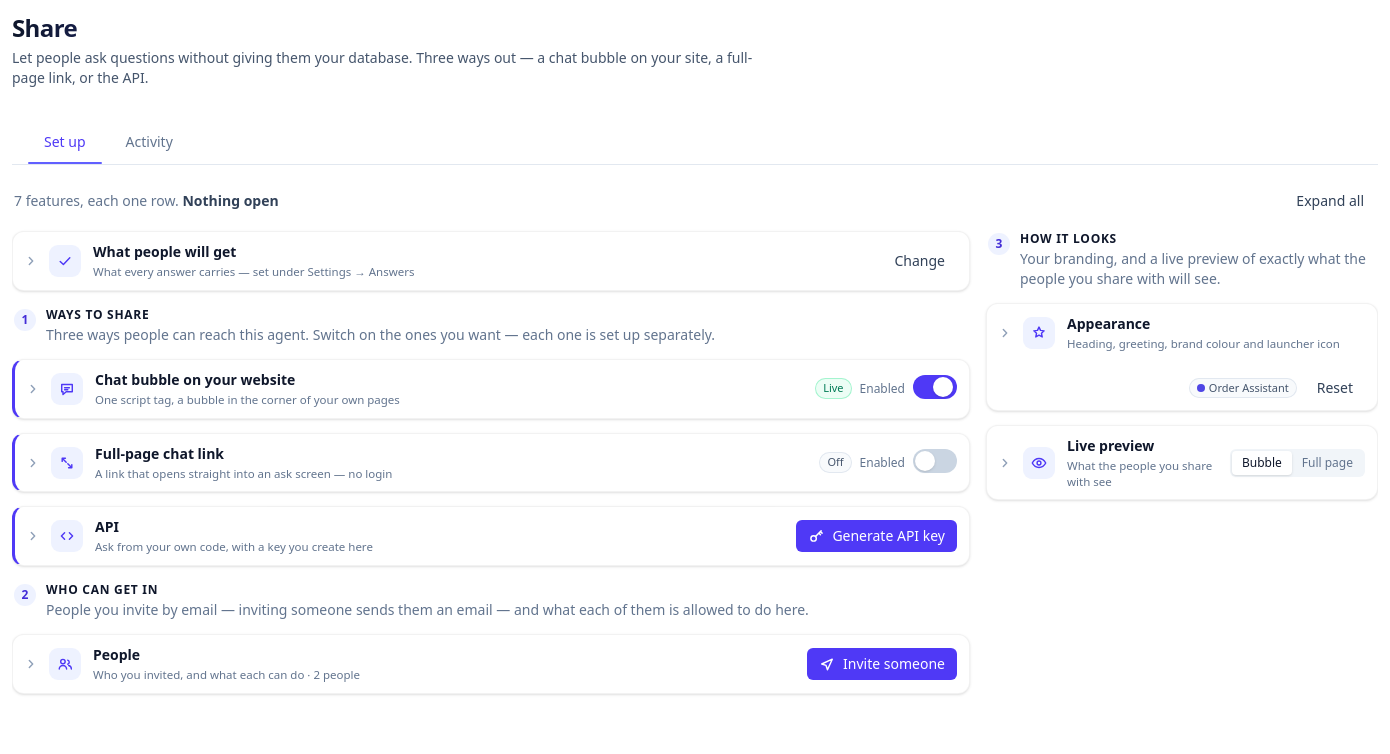
Scenario: Share sections › keeps which rows were open across a trip to Activity
The width and height of the screenshot is (1390, 754).
What coordinates should you click on to do the following:
click the button that starts with "Chat bubble on your website"
I would click on:
 (67, 389)
Its box is [15,360,803,418].
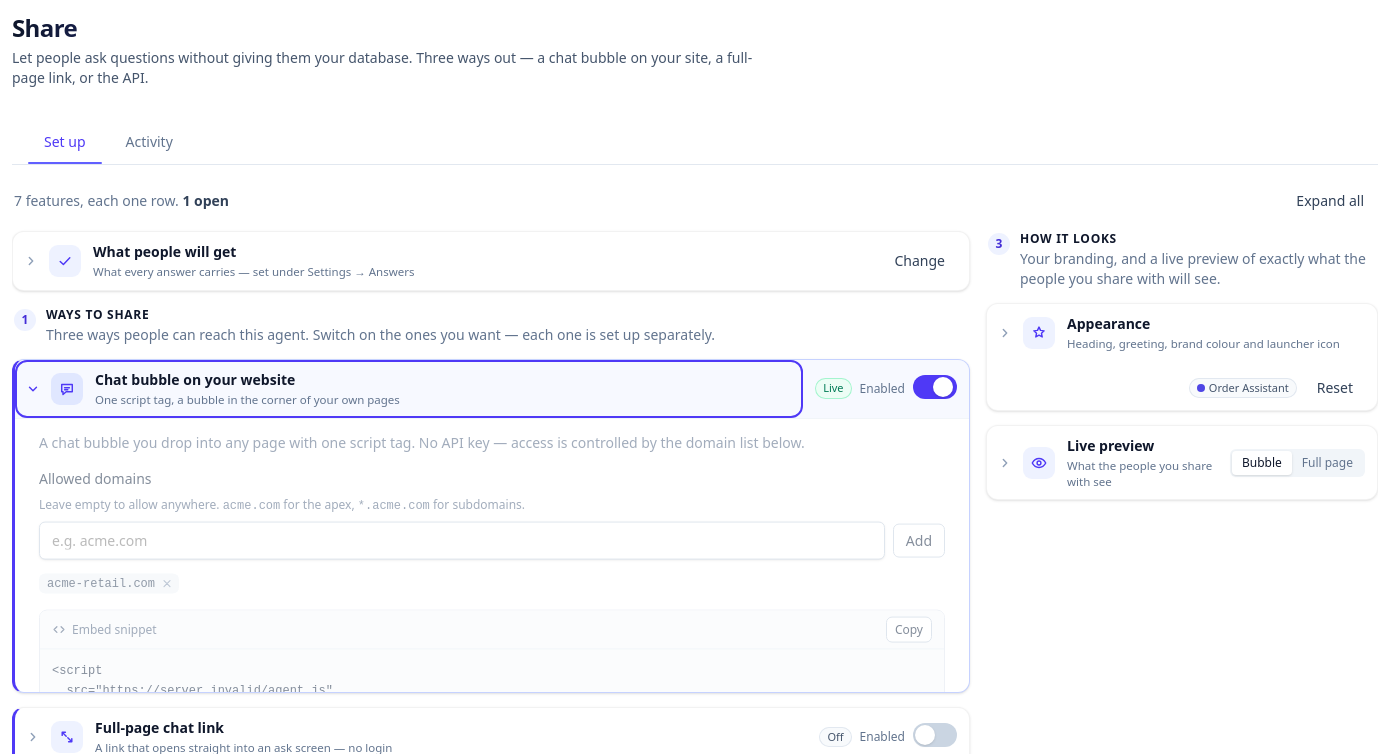
What coordinates should you click on to do the following:
click the tab "Activity"
I would click on:
 (149, 142)
Its box is [110,124,189,160].
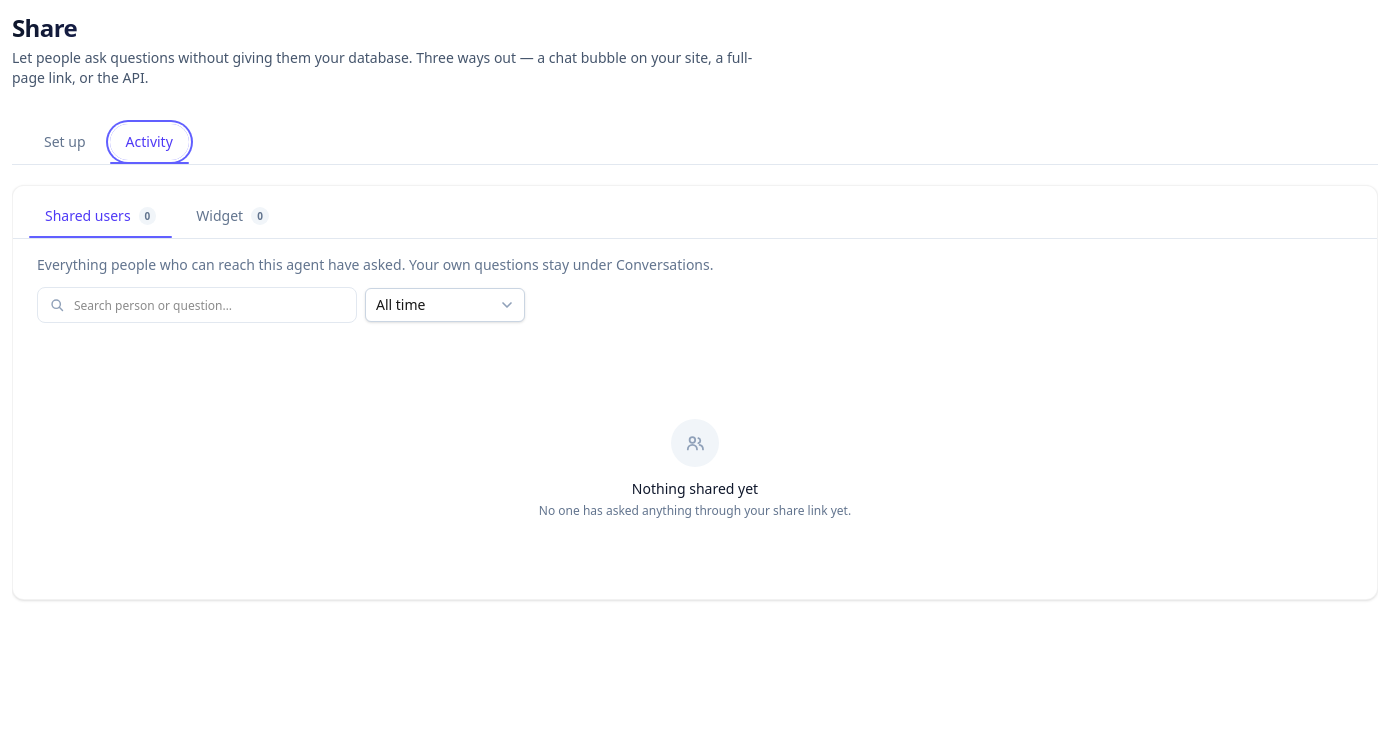
What coordinates should you click on to do the following:
click the tab "Set up"
I would click on:
 (65, 142)
Its box is [28,124,102,160].
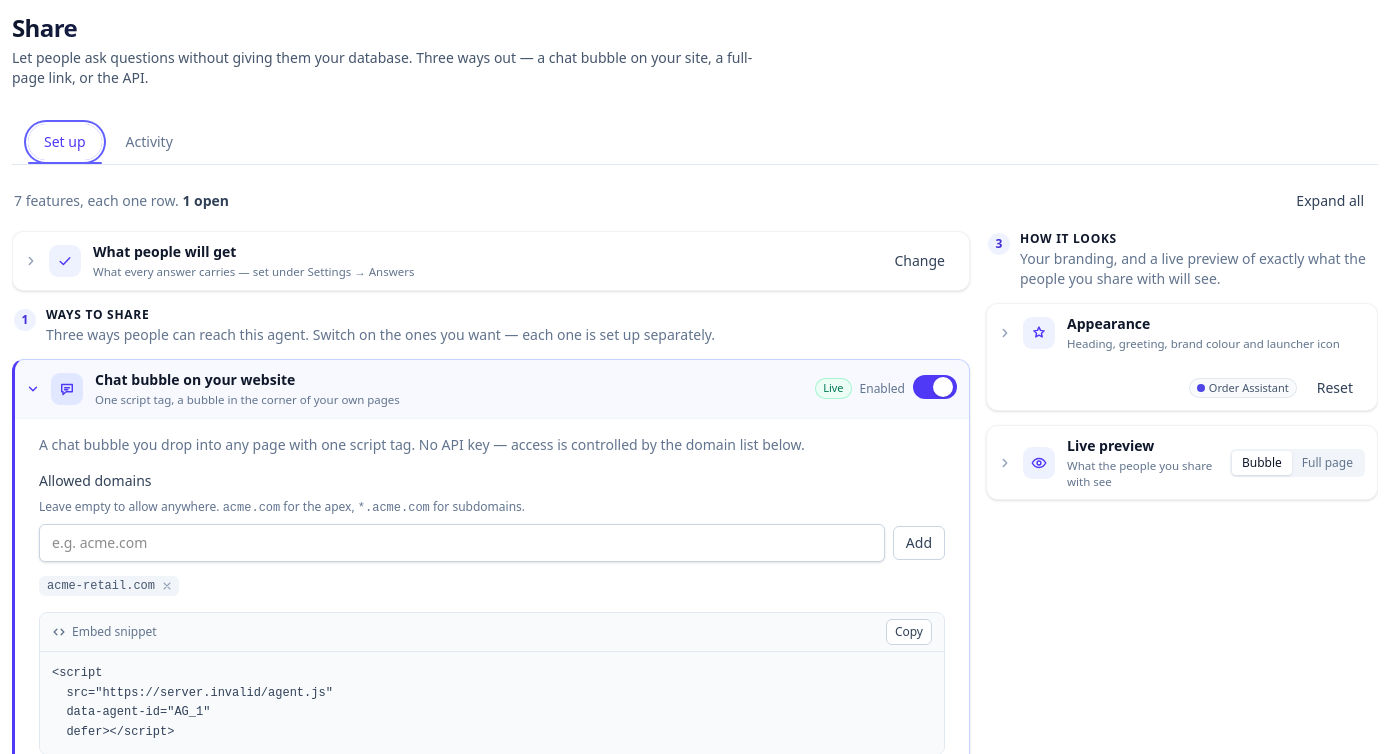
Result: the button that starts with "Chat bubble on your website" is expanded at [15,360,803,418]
Result: the text "Embed snippet" is shown at [52,624,157,640]
